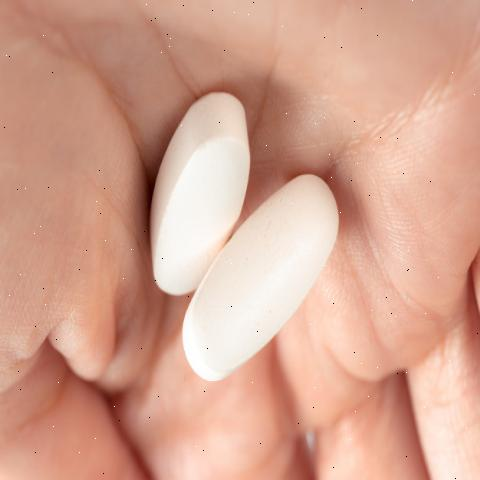Pill: (176, 169, 386, 399), (132, 74, 253, 298)
